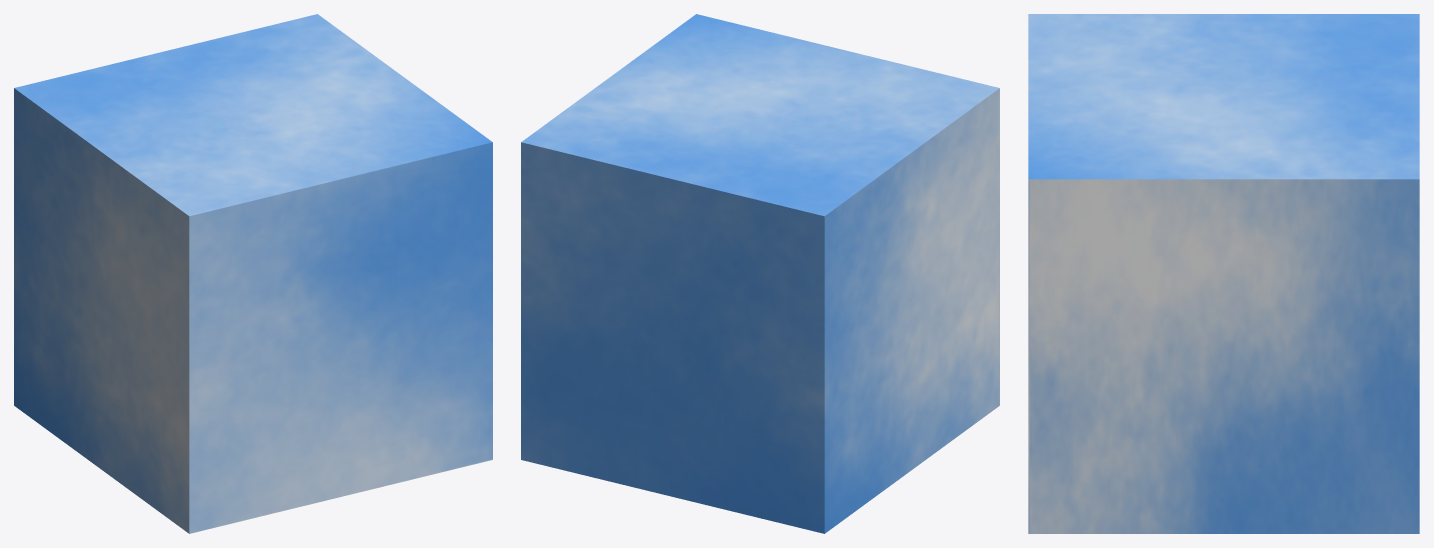
The model's file is praca.dae.
The picture shows the model from 3 angles, left to right: view 1: azimuth 30°, elevation 25°; view 2: azimuth 150°, elevation 25°; view 3: azimuth 270°, elevation 25°; orthographic projection. The views are drawn at different scales.
Parts seen in each view (by area): view 1: Cube; view 2: Cube; view 3: Cube.
Part boxes in pixels (x1,y1,x2,y2): Cube: (14,14,492,533); Cube: (521,14,999,533); Cube: (1028,14,1419,533).
Bounding box in the file's own units: 70.11 × 70.11 × 70.11.
Materials: 3 (3 with a texture image).
